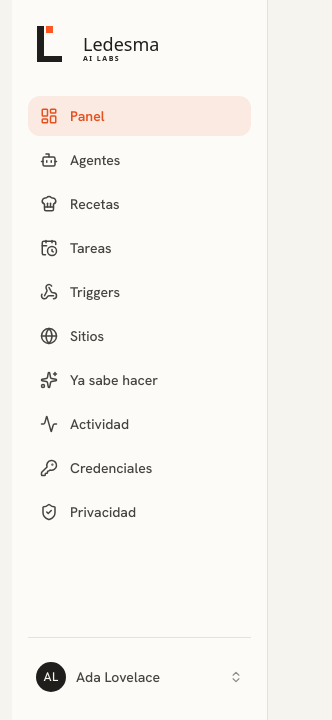
Test case: UserMenu (menu de usuario del footer del sidebar) › Configuracion navega a /configuracion/cuenta y cierra el menu
The width and height of the screenshot is (332, 720).
Click the button "AL Ada Lovelace" at (140,677), box [28,654,251,700]
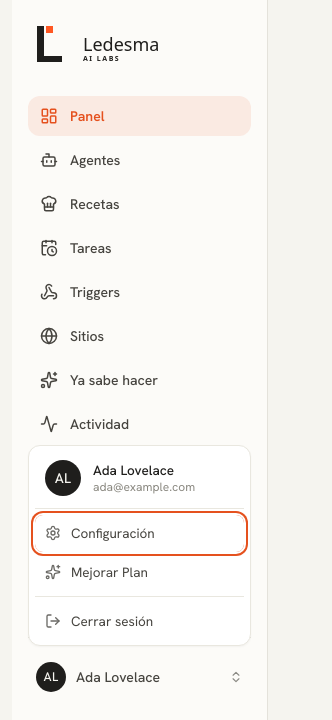
Click the menu item "Configuración" at (140,533), box [35,515,244,552]
(page scrolled)
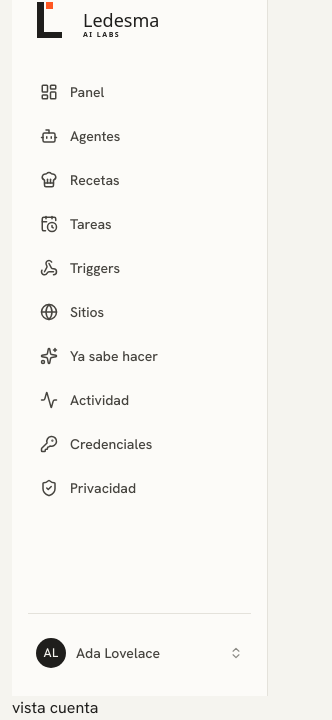
Expected: the menu is gone
Expected: the text "vista cuenta" is shown, [12,697,98,718]
